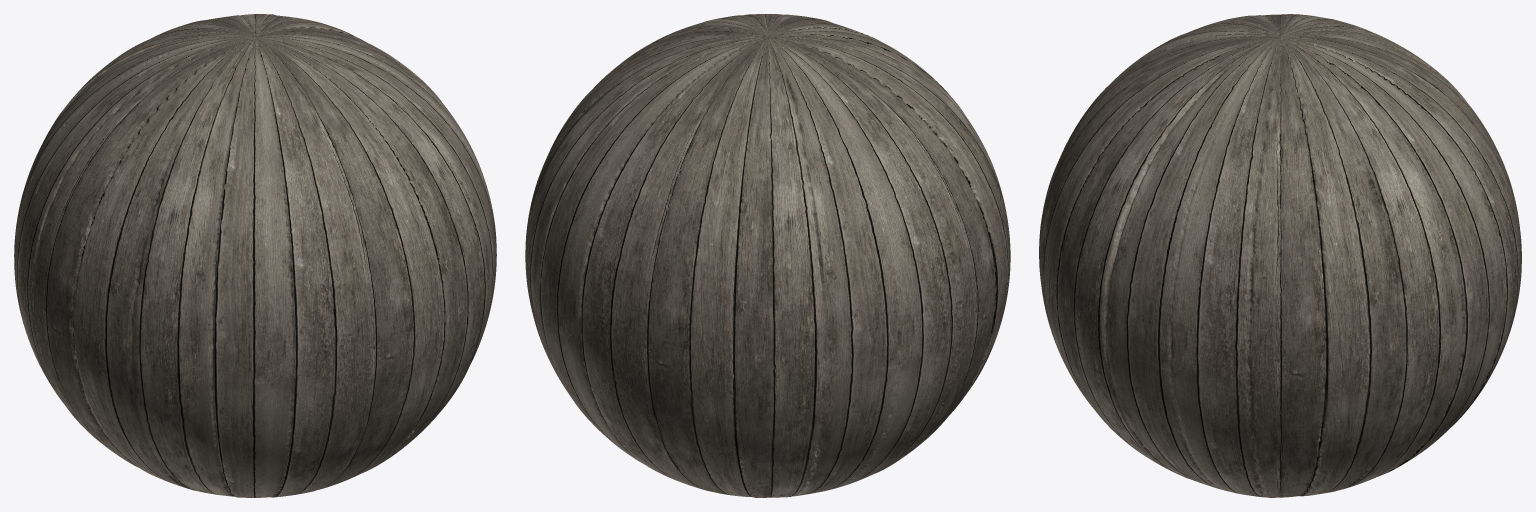
The model's file is brown_planks_03_1k.gltf.
3 renders of one model, left to right at view 1: azimuth 30°, elevation 25°; view 2: azimuth 150°, elevation 25°; view 3: azimuth 270°, elevation 25°, orthographic.
Visible parts, largest first — view 1: sphere_gltf.001; view 2: sphere_gltf.001; view 3: sphere_gltf.001.
Part boxes in pixels (box(x1,y1,x2,y2)): sphere_gltf.001: box(14, 14, 496, 497); sphere_gltf.001: box(525, 14, 1010, 497); sphere_gltf.001: box(1039, 14, 1521, 497).
Bounding box in the file's own units: 1.01 × 1.01 × 1.01.
1 material, 1 textured.
